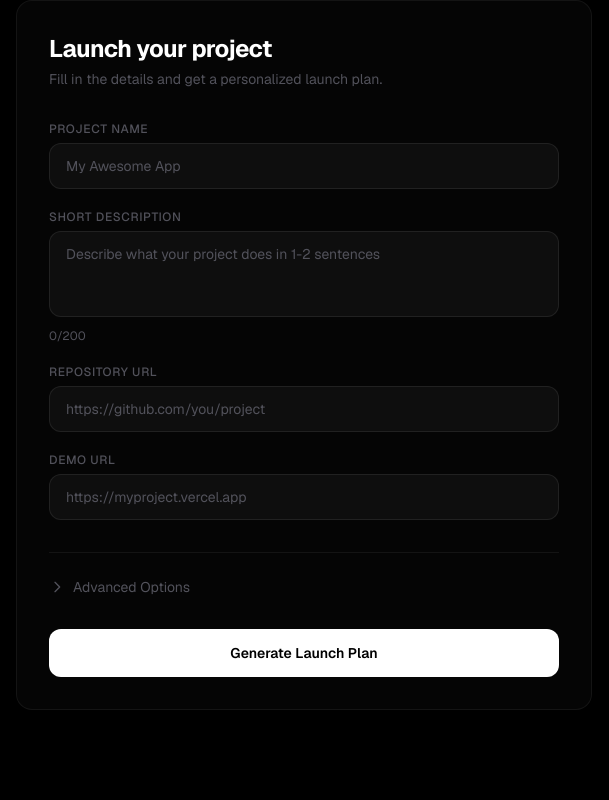
Test: ProjectForm › shows validation errors when submitting empty form
The width and height of the screenshot is (609, 800).
Step 1. Click the button "Generate Launch Plan" → click(304, 653), box [49, 629, 559, 677]
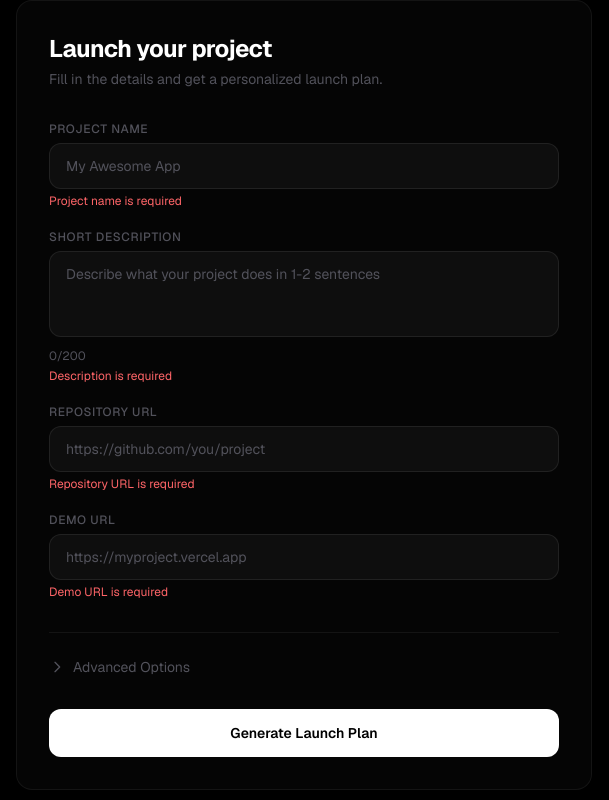
Result: the text "Project name is required" is shown at [49, 193, 182, 209]
Result: the text "Description is required" is shown at [49, 368, 172, 384]
Result: the text "Repository URL is required" is shown at [49, 476, 194, 492]
